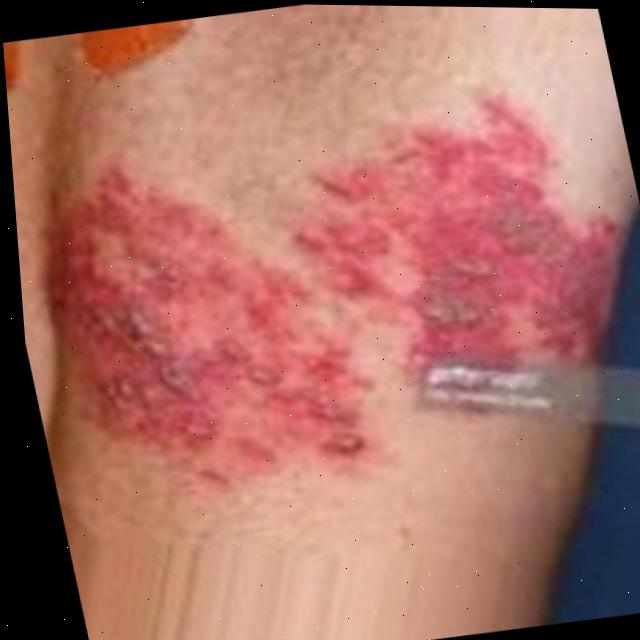Shingles: (51, 237, 379, 488), (381, 164, 612, 345)
